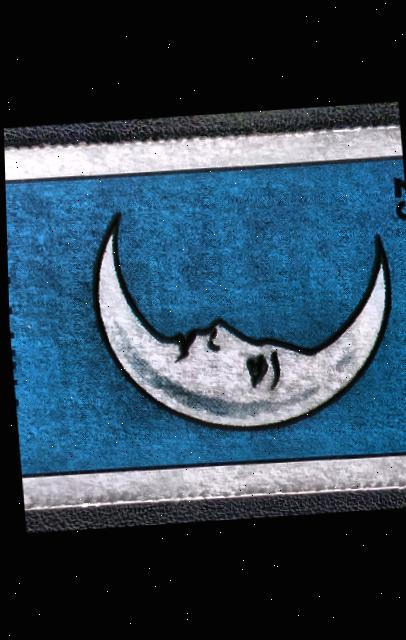La Luna: (3, 141, 406, 498)
